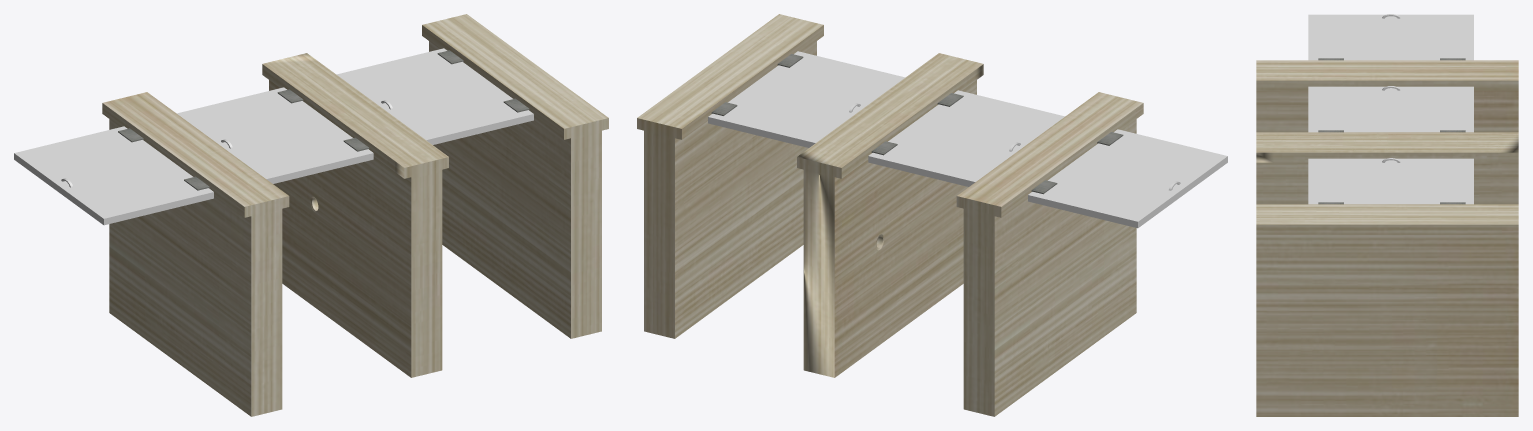
Rendered from Wc set2.FBX.
The picture shows the model from 3 angles, left to right: view 1: azimuth 30°, elevation 25°; view 2: azimuth 150°, elevation 25°; view 3: azimuth 270°, elevation 25°; orthographic projection. The views are drawn at different scales.
Visible parts, largest first — view 1: Box067, Box044, Box068, Box063; view 2: Box067, Box044, Box068, Box063; view 3: Box067, Box063, Box044, Box068.
Boxes of the visible parts, bbox=[...] form: Box067: bbox=[102, 14, 608, 416]; Box044: bbox=[14, 126, 213, 225]; Box068: bbox=[336, 48, 533, 144]; Box063: bbox=[177, 87, 373, 183]; Box067: bbox=[637, 14, 1143, 416]; Box044: bbox=[1028, 129, 1227, 228]; Box068: bbox=[708, 51, 905, 147]; Box063: bbox=[868, 90, 1064, 186]; Box067: bbox=[1256, 60, 1518, 416]; Box063: bbox=[1308, 86, 1473, 132]; Box044: bbox=[1308, 14, 1473, 60]; Box068: bbox=[1308, 158, 1473, 204].
Bounding box in the file's own units: 249 × 106 × 129.
2 materials, 2 textured.
